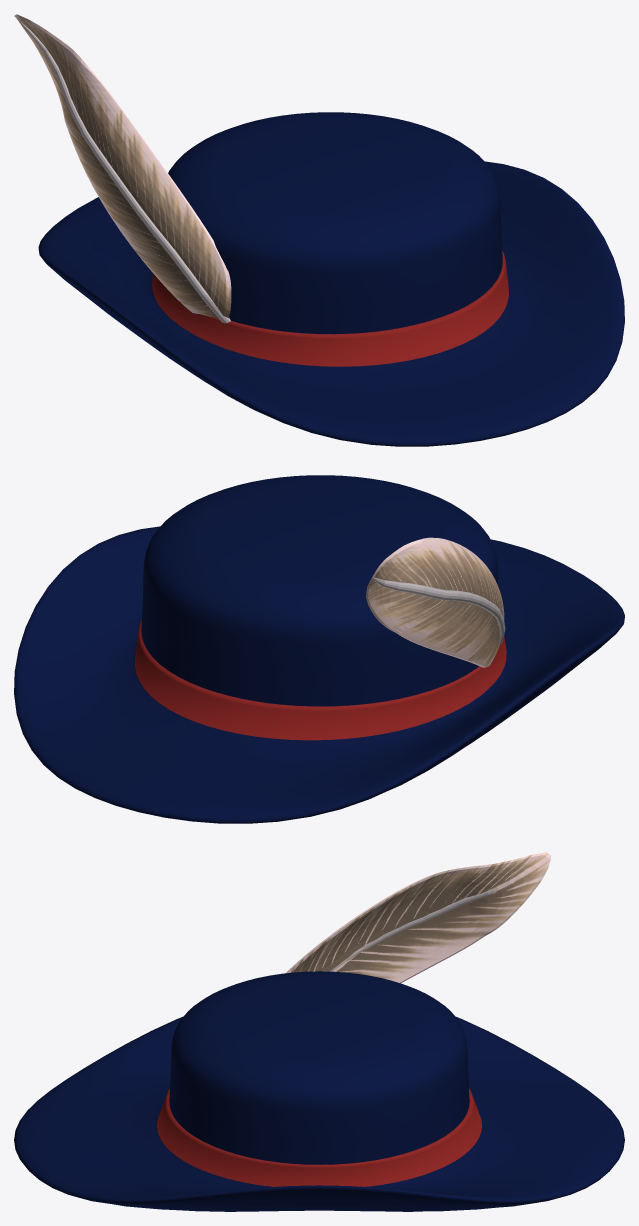
The model's file is Bosh kiyimi.fbx.
The picture shows the model from 3 angles, top to bottom: view 1: azimuth 30°, elevation 25°; view 2: azimuth 150°, elevation 25°; view 3: azimuth 270°, elevation 25°; orthographic projection. The views are drawn at different scales.
Parts seen in each view (by area): view 1: Circle.002, Plane.004; view 2: Circle.002, Plane.004; view 3: Circle.002, Plane.004.
Part boxes in pixels (x1,y1,x2,y2): Circle.002: (38, 112, 624, 446); Plane.004: (14, 14, 231, 323); Circle.002: (14, 475, 624, 823); Plane.004: (366, 537, 505, 667); Circle.002: (14, 971, 624, 1211); Plane.004: (286, 852, 551, 983).
Bounding box in the file's own units: 0.141 × 0.0731 × 0.1852.
Materials: 3 (3 with a texture image).
